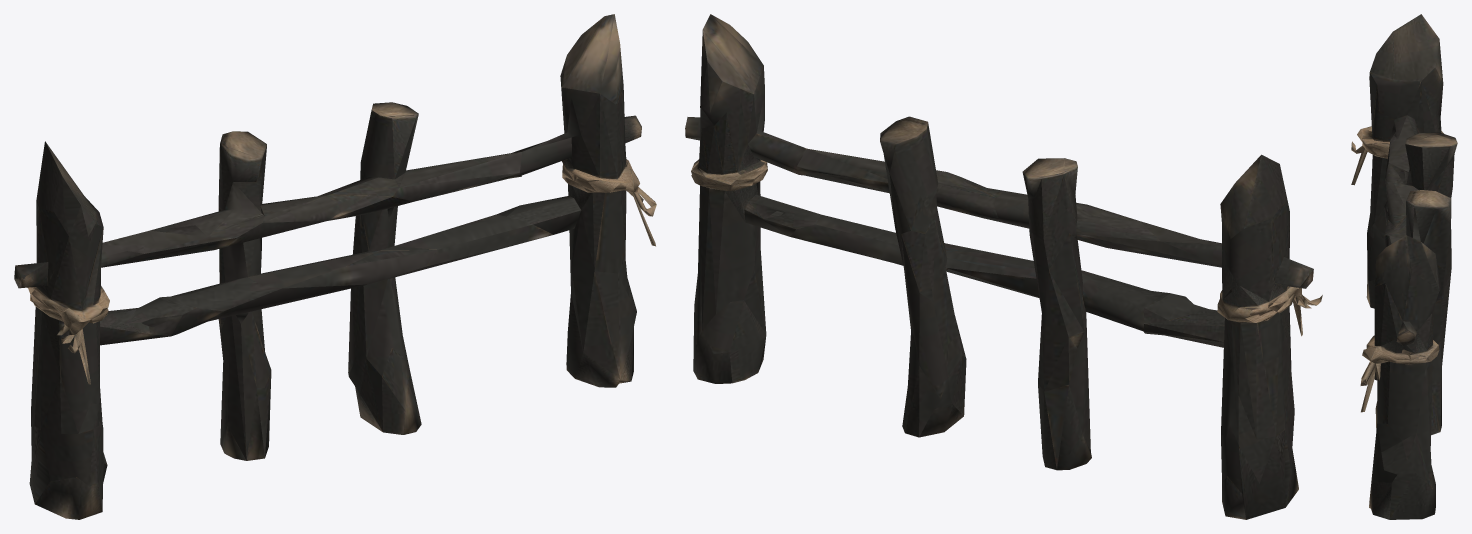
File: palisade.glb
3 views of the same model, side by side, from view 1: azimuth 30°, elevation 25°; view 2: azimuth 150°, elevation 25°; view 3: azimuth 270°, elevation 25° (orthographic). The views are drawn at different scales.
Visible parts, largest first — view 1: environment-palisade, environment-palisade-background; view 2: environment-palisade, environment-palisade-background; view 3: environment-palisade, environment-palisade-background.
Part boxes in pixels (left/top/right/bottom): environment-palisade: left=14, top=14, right=656, bottom=519; environment-palisade-background: left=28, top=14, right=633, bottom=503; environment-palisade: left=685, top=14, right=1322, bottom=519; environment-palisade-background: left=711, top=15, right=1297, bottom=519; environment-palisade: left=1351, top=14, right=1457, bottom=519; environment-palisade-background: left=1363, top=118, right=1441, bottom=384.
Size of the model in its own units: 86 by 47 by 16.
Materials: 1 (1 with a texture image).
